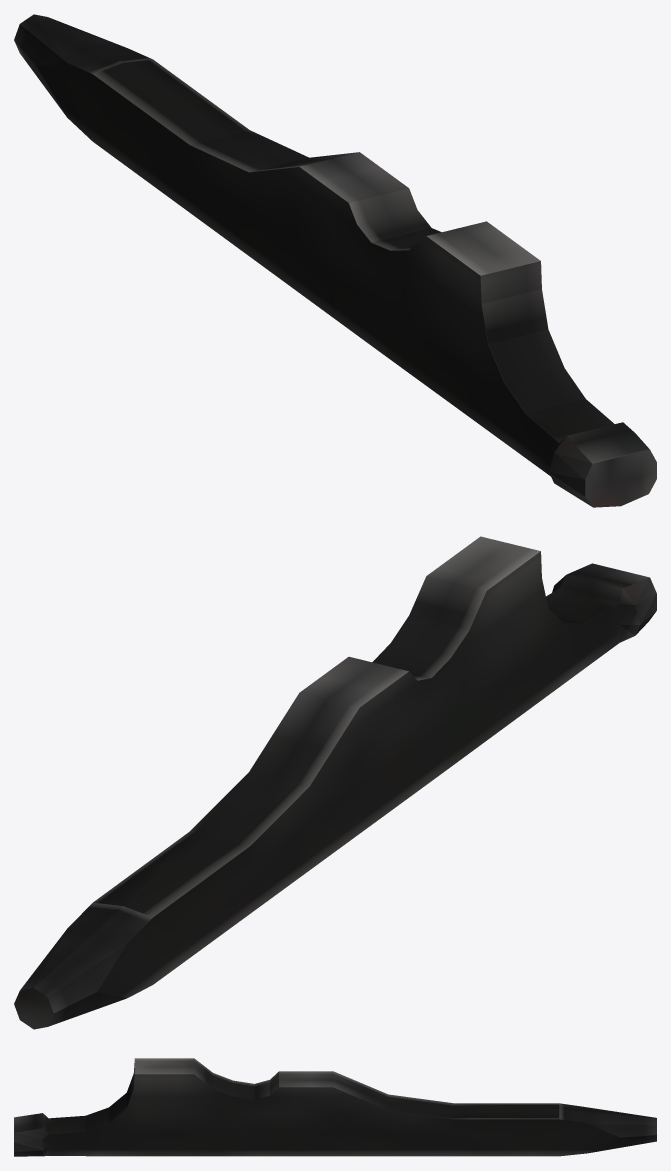
3 views of the same model, one above another, from view 1: azimuth 30°, elevation 25°; view 2: azimuth 150°, elevation 25°; view 3: azimuth 270°, elevation 25° (orthographic). The views are drawn at different scales.
Parts seen in each view (by area): view 1: TW_64ca3d3954fc657e230529cc_PZ_Import; view 2: TW_64ca3d3954fc657e230529cc_PZ_Import; view 3: TW_64ca3d3954fc657e230529cc_PZ_Import.
Part boxes in pixels (x1,y1,x2,y2): TW_64ca3d3954fc657e230529cc_PZ_Import: (14, 14, 656, 507); TW_64ca3d3954fc657e230529cc_PZ_Import: (14, 536, 656, 1029); TW_64ca3d3954fc657e230529cc_PZ_Import: (14, 1058, 656, 1156).
Size of the model in its own units: 0.00312 by 0.0347 by 0.00512.
Materials: 1 (1 with a texture image).
